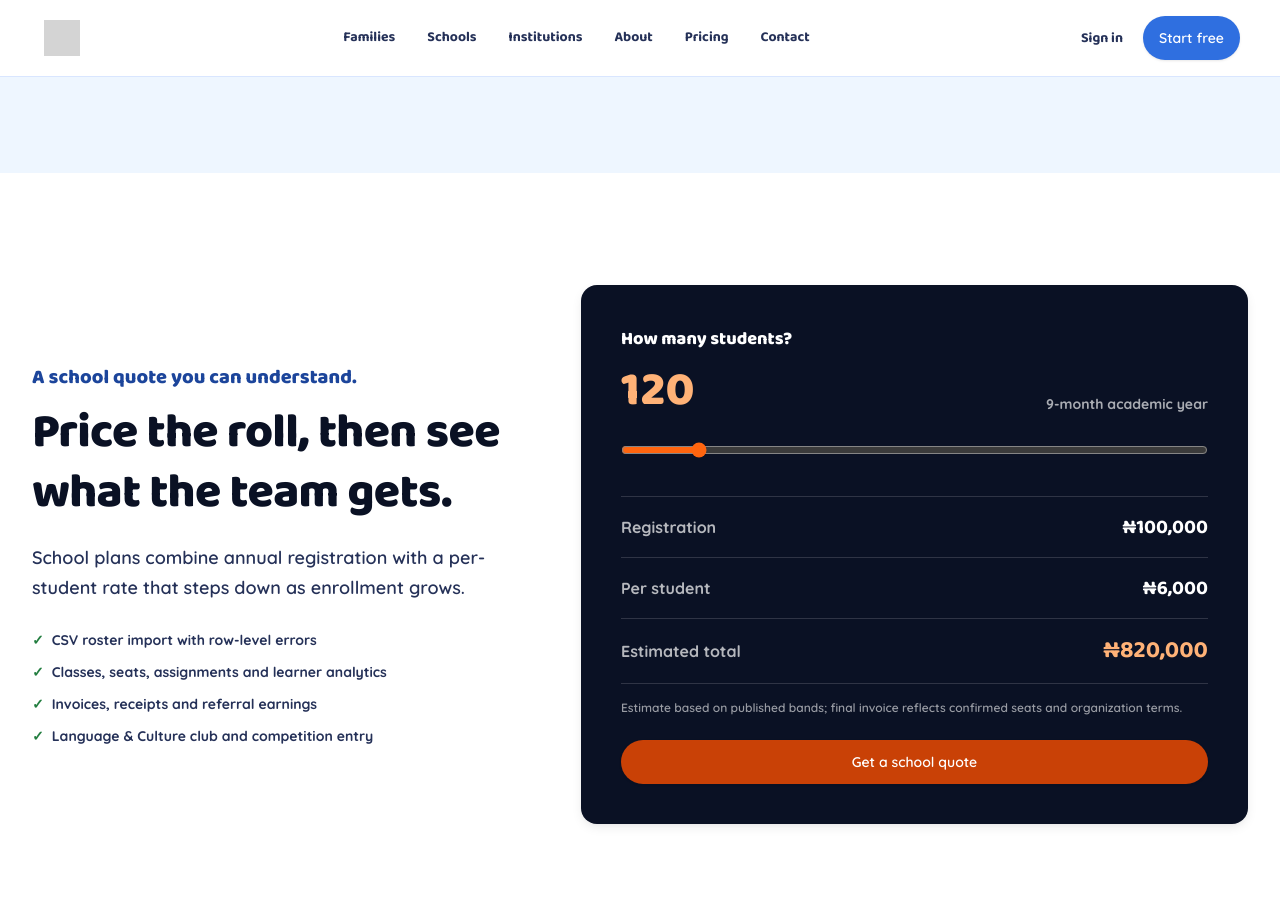
landing concepts › V3 recalculates a school estimate from the published seat band
(page scrolled)
Set the slider labelled "How many students?" to "600" at (1053,450), box left=621, top=442, right=1208, bottom=458
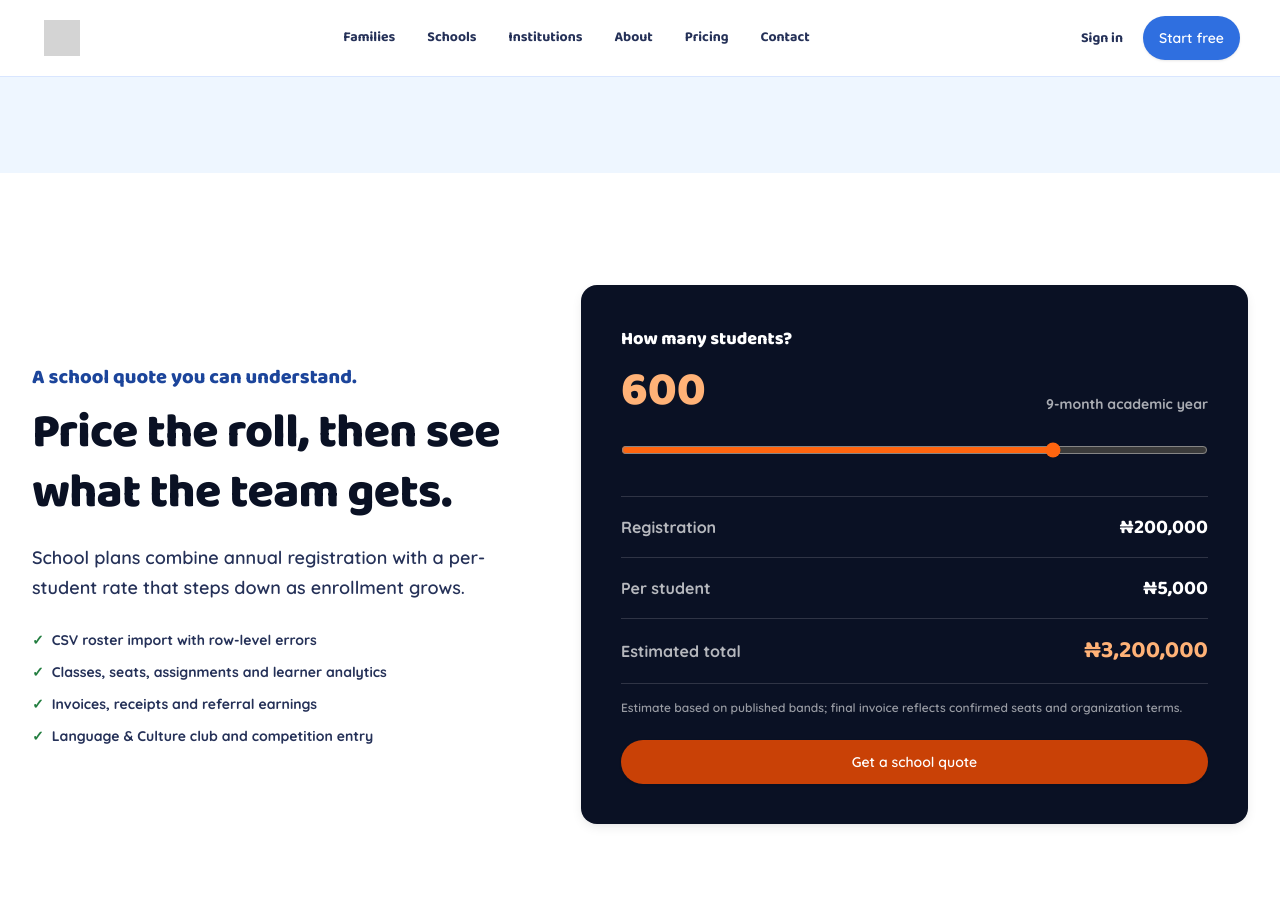
Now the text "₦3,200,000" is shown, box left=1084, top=635, right=1208, bottom=667
Now the text "₦5,000" is shown, box left=1143, top=574, right=1208, bottom=602
